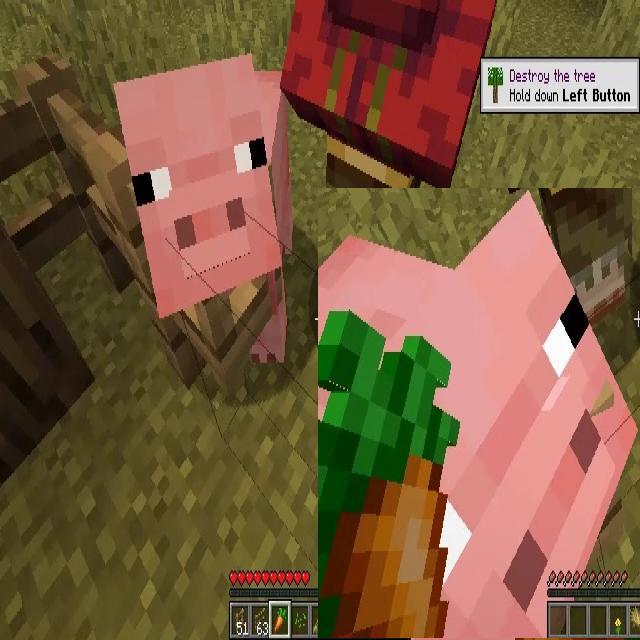pig: (318, 188, 640, 638), (120, 71, 292, 364)
